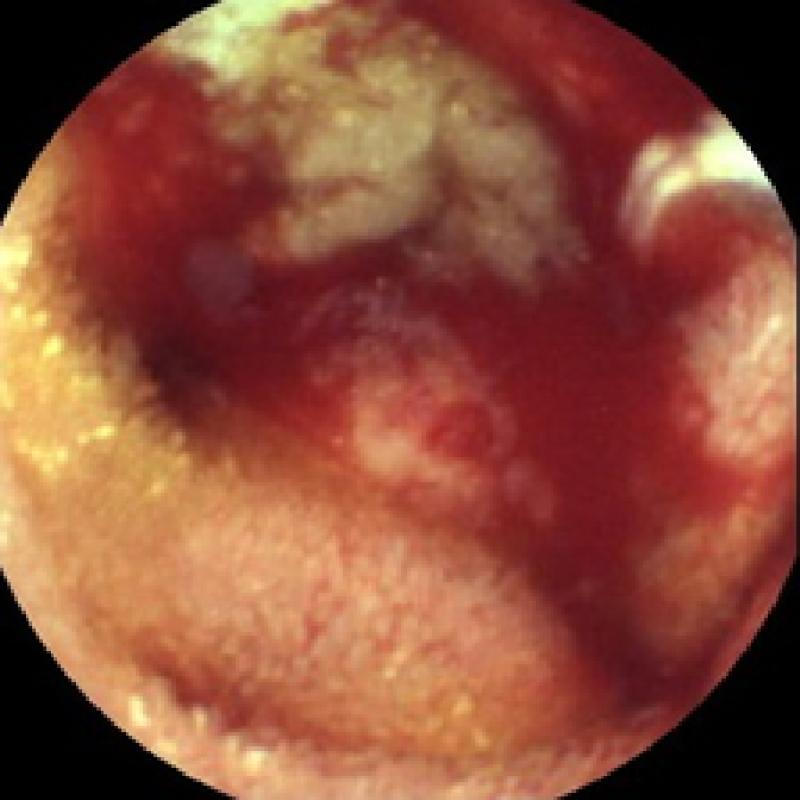bleeding: (100, 40, 750, 672)
